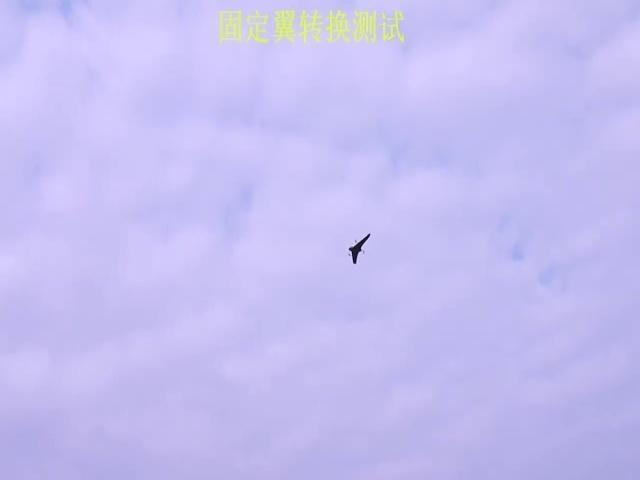Airplane: (348, 232, 371, 264)
